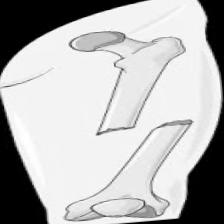open-compound-fracture: (36, 13, 209, 224)
